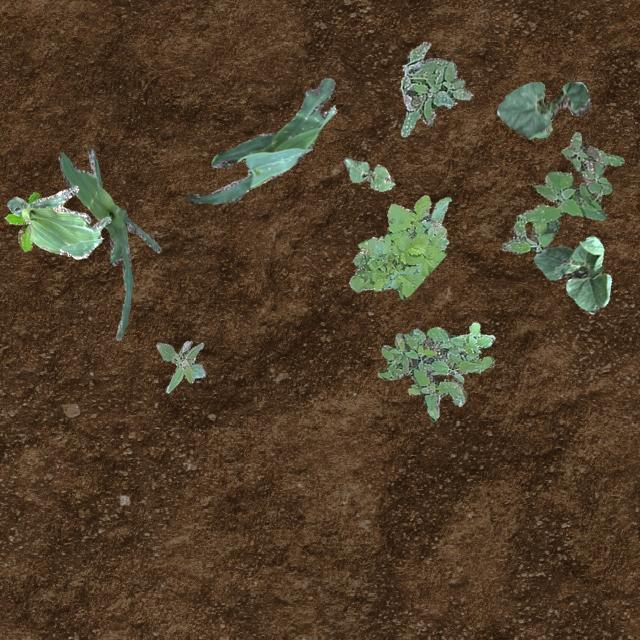crop: (56, 146, 160, 338), (186, 78, 336, 202), (5, 185, 110, 258), (532, 235, 610, 312), (496, 80, 590, 138), (342, 156, 394, 190)
weed: (501, 130, 624, 252), (376, 322, 494, 421), (348, 195, 451, 298), (398, 41, 472, 136), (156, 339, 204, 392), (3, 192, 40, 250)
